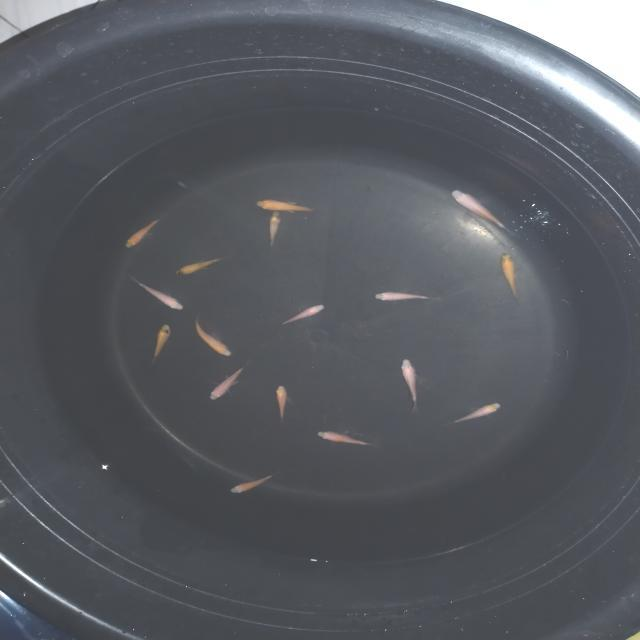nila: (448, 188, 516, 236), (128, 277, 186, 312), (171, 253, 238, 280), (204, 363, 248, 404), (194, 318, 234, 360), (396, 358, 424, 416), (251, 196, 323, 218), (275, 302, 329, 330), (446, 401, 502, 428), (120, 217, 162, 250), (312, 430, 379, 450), (226, 473, 282, 496), (146, 322, 174, 367), (498, 248, 520, 304), (374, 288, 438, 306), (264, 207, 284, 254), (272, 381, 292, 424)
